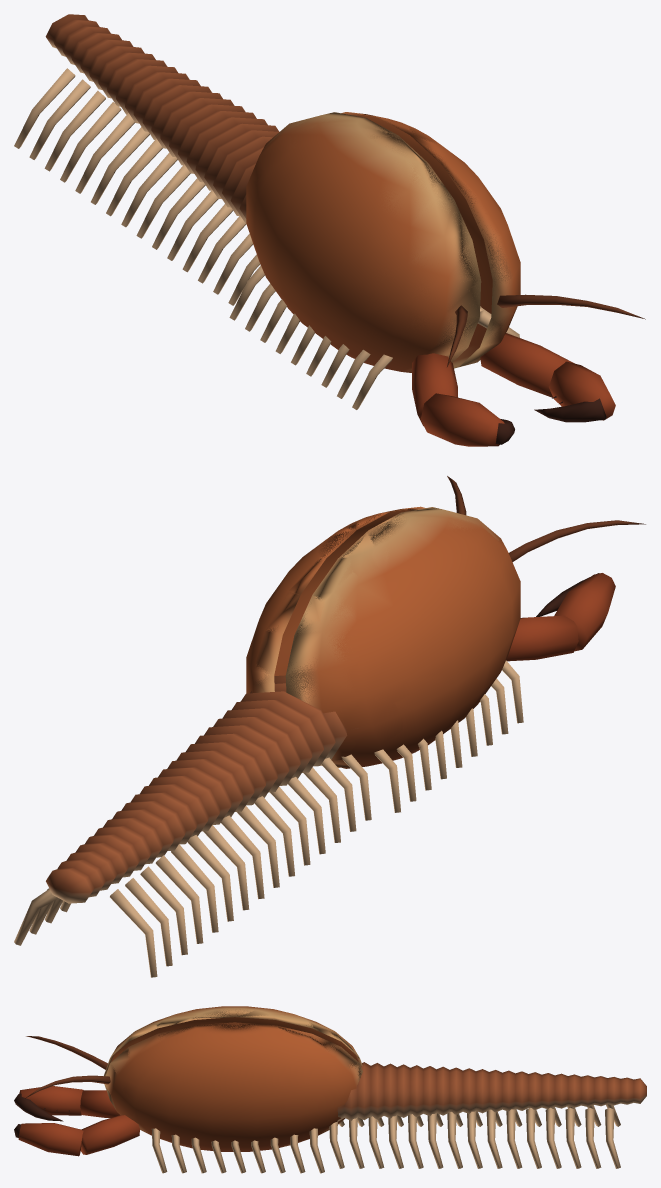
The model's file is Tokummia.fbx.
3 renders of one model, top to bottom at view 1: azimuth 30°, elevation 25°; view 2: azimuth 150°, elevation 25°; view 3: azimuth 270°, elevation 25°, orthographic. The views are drawn at different scales.
Visible parts, largest first — view 1: Tokummia; view 2: Tokummia; view 3: Tokummia.
Part boxes in pixels (<box>): Tokummia: <box>14,14,645,446</box>; Tokummia: <box>14,476,645,977</box>; Tokummia: <box>14,1006,646,1173</box>.
Bounding box in the file's own units: 0.34 × 0.3413 × 1.44.
